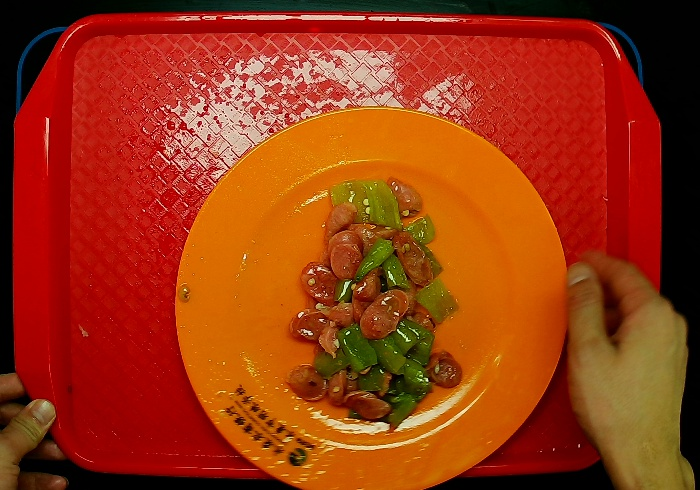YKMZ-Ju_Se_Mian_Pan: (168, 99, 571, 490)
